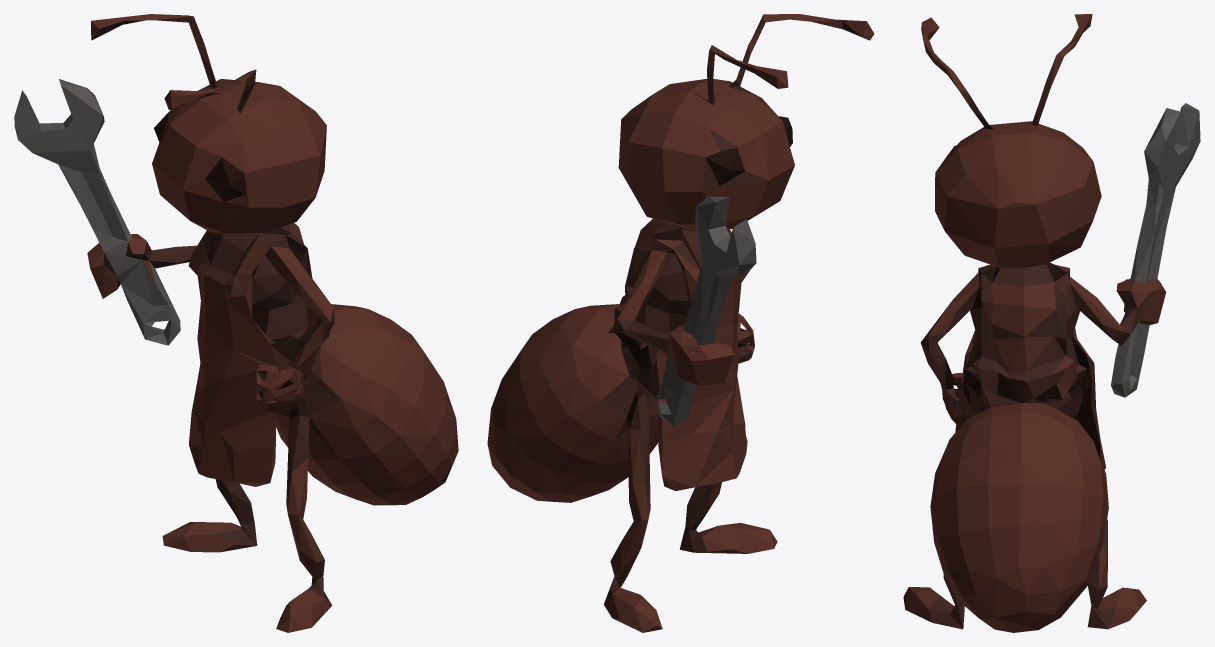
3 renders of one model, left to right at view 1: azimuth 30°, elevation 25°; view 2: azimuth 150°, elevation 25°; view 3: azimuth 270°, elevation 25°, orthographic. The views are drawn at different scales.
Visible parts, largest first — view 1: lion-1500; view 2: lion-1500; view 3: lion-1500.
Boxes of the visible parts, x1,y1,x2,y2 form: lion-1500: [14, 14, 458, 632]; lion-1500: [487, 14, 874, 632]; lion-1500: [903, 14, 1200, 632].
Size of the model in its own units: 0.642 by 0.9974 by 0.4983.
